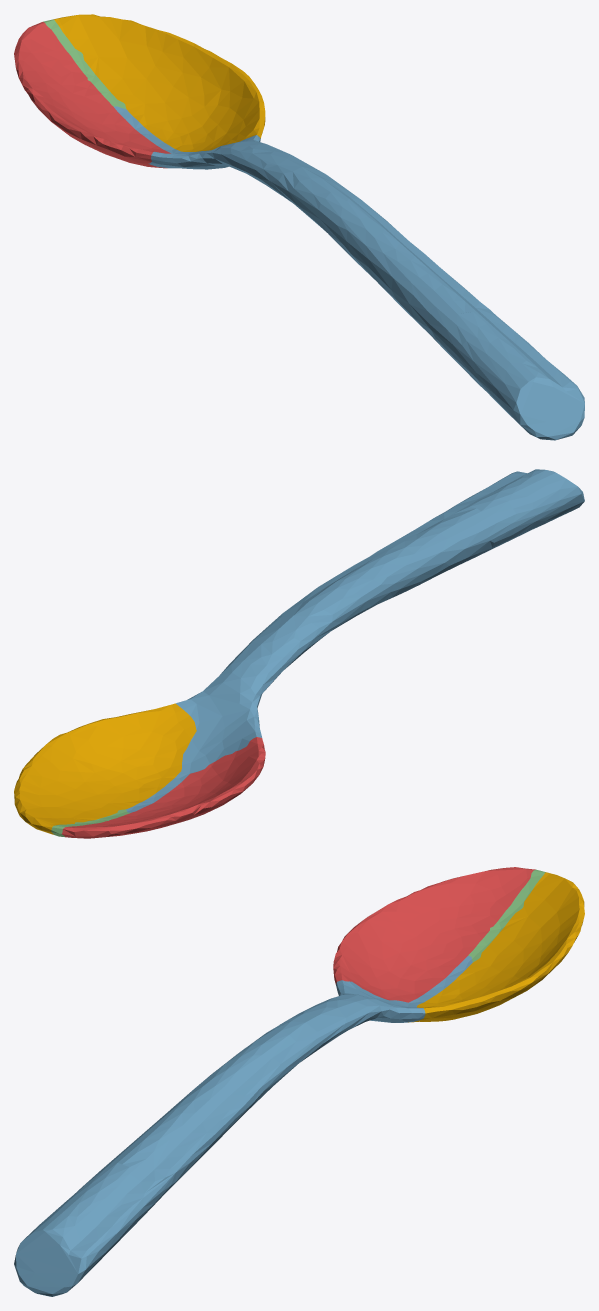
The model's file is mode_5_4pcs.glb.
3 renders of one model, top to bottom at view 1: azimuth 30°, elevation 25°; view 2: azimuth 150°, elevation 25°; view 3: azimuth 330°, elevation 25°, orthographic.
Visible parts, largest first — view 1: piece_2.obj, piece_0.obj, piece_1.obj, piece_3.obj; view 2: piece_2.obj, piece_0.obj, piece_1.obj; view 3: piece_2.obj, piece_1.obj, piece_0.obj, piece_3.obj.
Part boxes in pixels (left/top/right/bottom): piece_2.obj: left=114, top=106, right=584, bottom=440; piece_0.obj: left=53, top=14, right=265, bottom=151; piece_1.obj: left=14, top=22, right=170, bottom=168; piece_3.obj: left=43, top=19, right=126, bottom=108; piece_2.obj: left=126, top=469, right=584, bottom=812; piece_0.obj: left=14, top=703, right=196, bottom=834; piece_1.obj: left=62, top=737, right=265, bottom=838; piece_2.obj: left=14, top=956, right=472, bottom=1296; piece_1.obj: left=333, top=867, right=535, bottom=1002; piece_0.obj: left=408, top=872, right=584, bottom=1022; piece_3.obj: left=468, top=869, right=545, bottom=962.
Size of the model in its own units: 0.217 by 0.0921 by 1.
